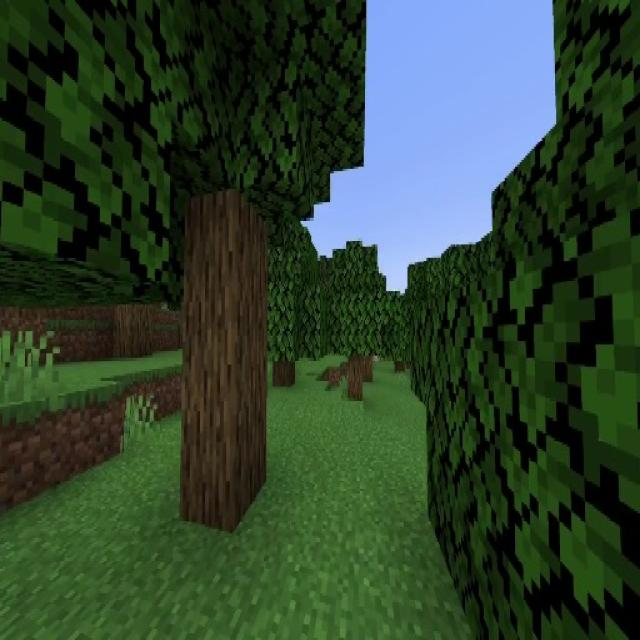oak: (241, 227, 325, 389), (318, 240, 390, 401)
oak_log: (184, 195, 265, 513), (115, 304, 155, 358), (272, 356, 295, 388), (347, 356, 363, 401), (362, 354, 372, 382)
